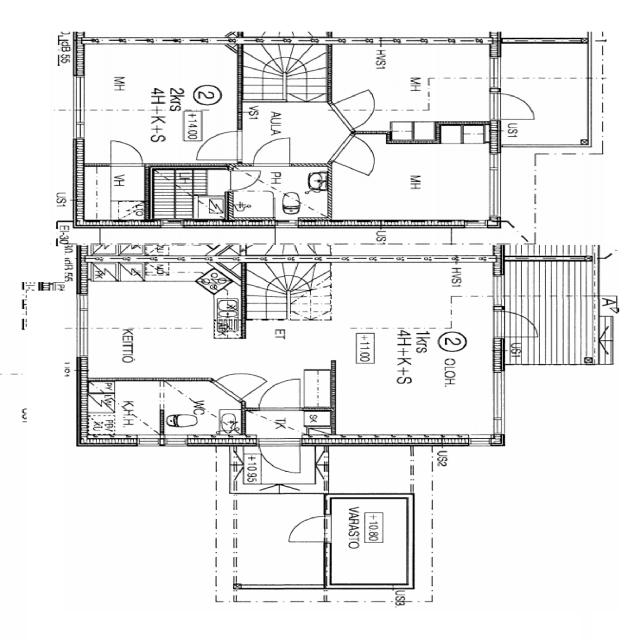door: (254, 376, 305, 412), (194, 127, 244, 163), (336, 134, 376, 175), (284, 512, 332, 544), (257, 440, 302, 474), (250, 135, 296, 168), (215, 370, 268, 398), (492, 90, 537, 122), (104, 137, 148, 169), (496, 310, 538, 339), (226, 168, 261, 192), (343, 108, 375, 130)
window: (68, 294, 94, 363), (482, 150, 506, 221), (66, 71, 89, 143), (486, 368, 508, 425), (488, 272, 509, 307), (485, 54, 504, 92), (134, 433, 164, 448), (160, 436, 192, 448), (272, 218, 302, 230), (157, 218, 185, 228)
zone: (245, 257, 501, 378), (76, 42, 234, 166), (81, 259, 241, 379), (332, 117, 492, 225), (333, 41, 499, 119), (325, 444, 415, 586), (338, 379, 503, 445), (502, 40, 594, 144), (225, 166, 330, 222), (81, 380, 162, 440), (158, 380, 238, 435), (75, 164, 148, 224), (147, 167, 226, 220), (239, 406, 335, 440)
